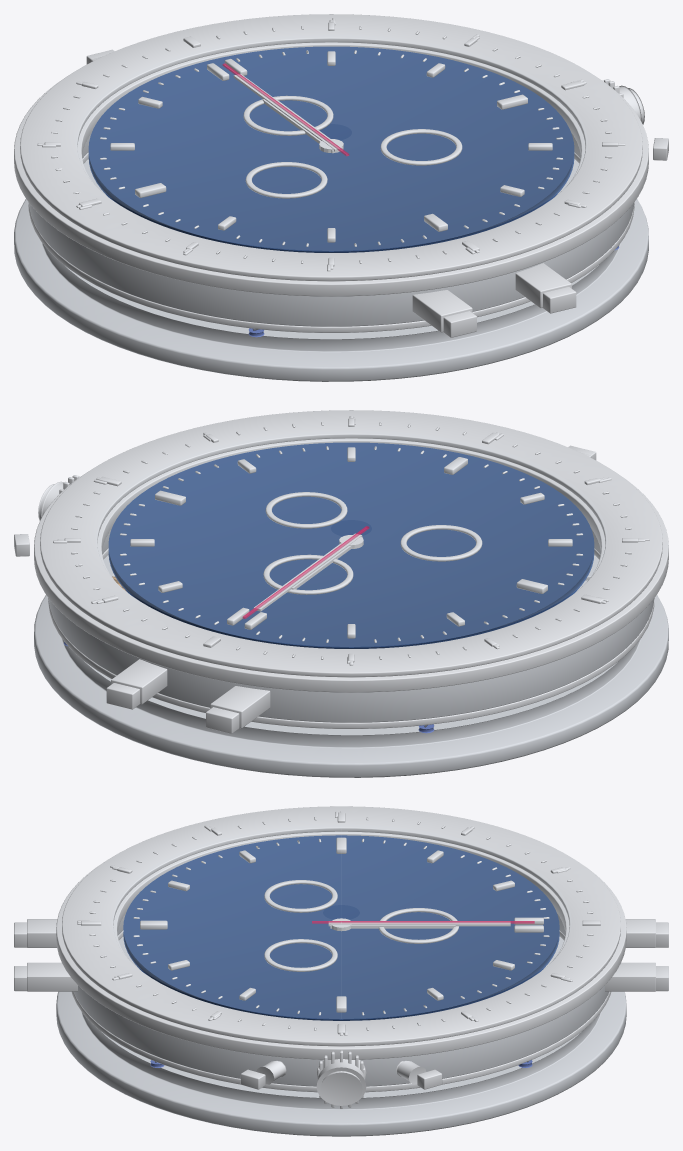
Rendered from watch_calibre_backup.glb.
3 renders of one model, top to bottom at view 1: azimuth 30°, elevation 25°; view 2: azimuth 150°, elevation 25°; view 3: azimuth 270°, elevation 25°, orthographic. The views are drawn at different scales.
Parts seen in each view (by area): view 1: Layer09_OuterCase, Layer10_SapphireGlass, Layer07_SkeletonDial, Layer01_Caseback, Layer02_Mainplate, Hand_Minute, Hand_Second; view 2: Layer09_OuterCase, Layer10_SapphireGlass, Layer07_SkeletonDial, Layer01_Caseback, Layer02_Mainplate, Hand_Minute, Hand_Second; view 3: Layer09_OuterCase, Layer10_SapphireGlass, Layer07_SkeletonDial, Layer01_Caseback, Layer02_Mainplate, Hand_Minute, Hand_Second.
Boxes of the visible parts, left/top/right/bottom form: Layer09_OuterCase: left=14, top=14, right=668, bottom=337; Layer10_SapphireGlass: left=76, top=35, right=586, bottom=250; Layer07_SkeletonDial: left=88, top=46, right=574, bottom=252; Layer01_Caseback: left=14, top=199, right=648, bottom=381; Layer02_Mainplate: left=41, top=159, right=621, bottom=352; Hand_Minute: left=233, top=74, right=342, bottom=151; Hand_Second: left=222, top=63, right=349, bottom=156; Layer09_OuterCase: left=14, top=410, right=668, bottom=733; Layer10_SapphireGlass: left=96, top=431, right=606, bottom=646; Layer07_SkeletonDial: left=108, top=442, right=594, bottom=648; Layer01_Caseback: left=34, top=595, right=668, bottom=777; Layer02_Mainplate: left=61, top=555, right=641, bottom=748; Hand_Minute: left=253, top=533, right=362, bottom=611; Hand_Second: left=242, top=526, right=369, bottom=618; Layer09_OuterCase: left=14, top=806, right=668, bottom=1108; Layer10_SapphireGlass: left=112, top=825, right=570, bottom=1018; Layer07_SkeletonDial: left=123, top=835, right=559, bottom=1020; Layer01_Caseback: left=56, top=991, right=626, bottom=1136; Layer02_Mainplate: left=81, top=936, right=601, bottom=1109; Hand_Minute: left=328, top=921, right=510, bottom=926; Hand_Second: left=312, top=921, right=534, bottom=923.
Size of the model in its own units: 3.25 by 0.624 by 3.56.
